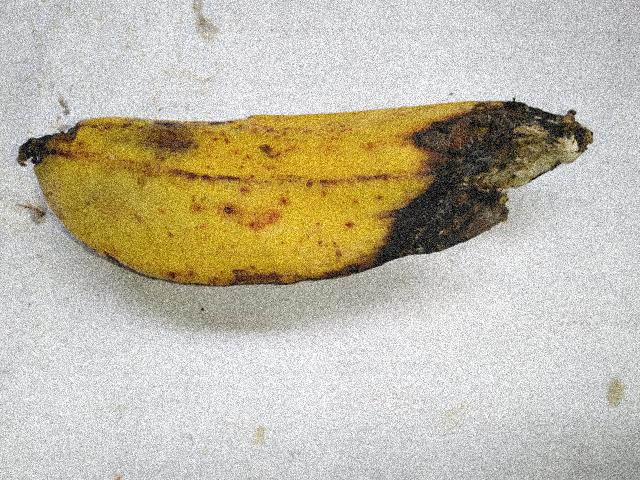rotten: (311, 76, 601, 315), (6, 90, 129, 193)
